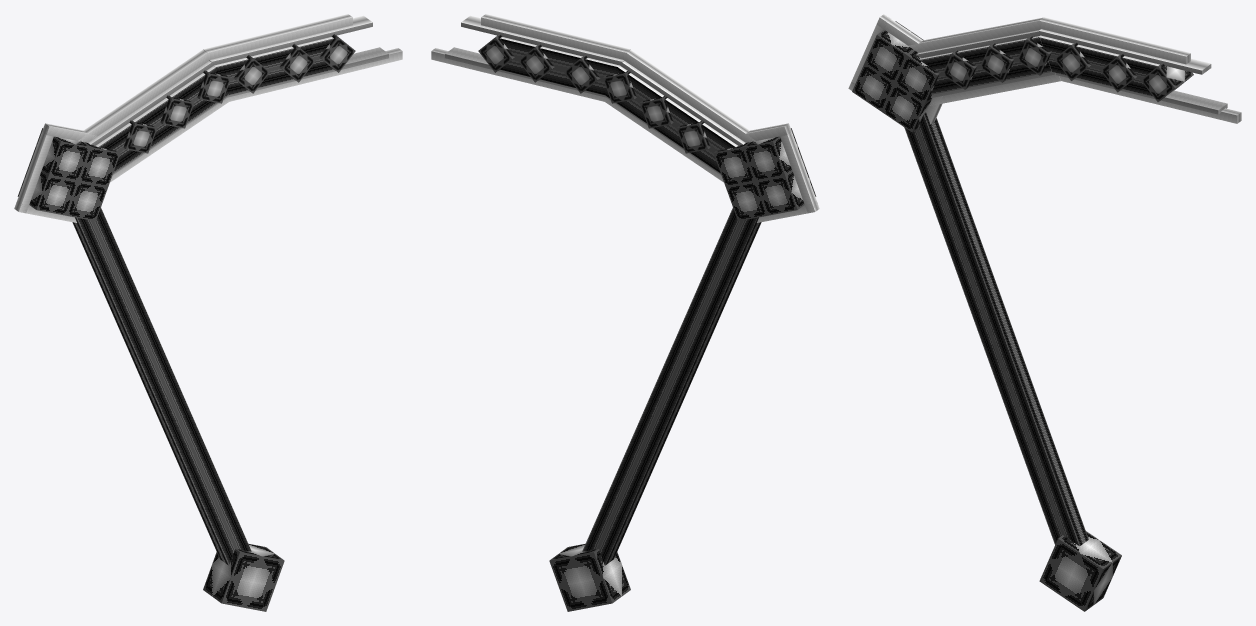
The model's file is iron_hoe.gltf.
The picture shows the model from 3 angles, left to right: view 1: azimuth 30°, elevation 25°; view 2: azimuth 150°, elevation 25°; view 3: azimuth 330°, elevation 25°; orthographic projection.
Parts seen in each view (by area): view 1: cube (×23); view 2: cube (×23); view 3: cube (×22).
Part boxes in pixels (x1,y1,x2,y2): cube (×23): (14, 14, 402, 611); cube (×23): (431, 14, 819, 611); cube (×22): (852, 14, 1241, 611).
Bounding box in the file's own units: 1.49 × 2.1 × 0.125.
Materials: 8 (1 with a texture image).
